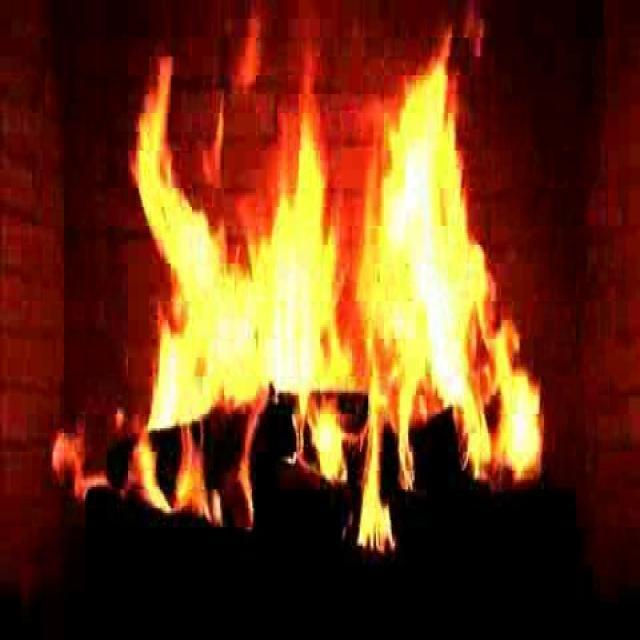Fire: (134, 29, 546, 556)
